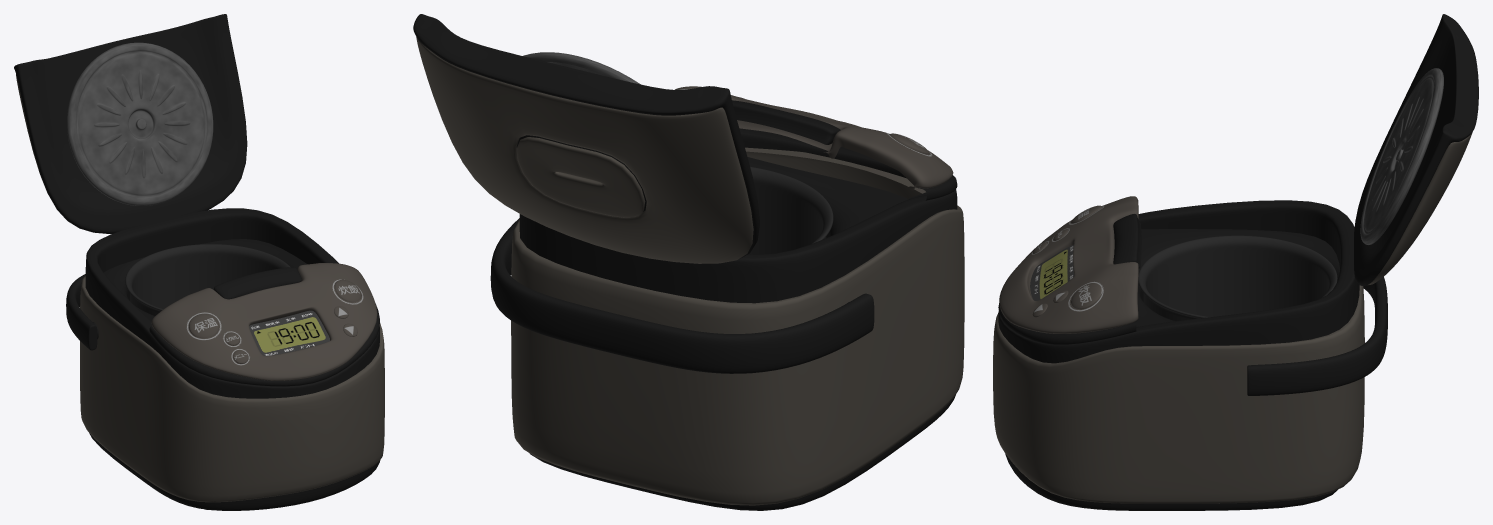
Rendered from rice_cooker.glb.
3 renders of one model, left to right at view 1: azimuth 30°, elevation 25°; view 2: azimuth 150°, elevation 25°; view 3: azimuth 270°, elevation 25°, orthographic. The views are drawn at different scales.
Parts seen in each view (by area): view 1: BodyMetal, FutaPlastic, Uchibuta, ControlPanel, BodyPlastic, Kama, BottomPlastic, DisplayPanel, ControlPanelPlastic, FutaButtonPlastic, KamaPlastic, TottePlastic; view 2: BodyMetal, FutaMetal, BodyPlastic, TottePlastic, FutaPlastic, FutaTopMetal, Kama, ControlPanel, KamaPlastic, BottomPlastic, FutaButtonPlastic, Uchibuta (+1 smaller); view 3: BodyMetal, BodyPlastic, Kama, ControlPanel, FutaPlastic, Uchibuta, TottePlastic, KamaPlastic, BottomPlastic, FutaMetal, DisplayPanel, ControlPanelPlastic (+1 smaller).
Part boxes in pixels (bbox=[...]): BodyMetal: bbox=[80, 276, 384, 502]; FutaPlastic: bbox=[14, 14, 247, 233]; Uchibuta: bbox=[67, 42, 213, 205]; ControlPanel: bbox=[151, 263, 377, 380]; BodyPlastic: bbox=[85, 208, 379, 398]; Kama: bbox=[125, 244, 290, 315]; BottomPlastic: bbox=[89, 433, 380, 510]; DisplayPanel: bbox=[249, 310, 329, 355]; ControlPanelPlastic: bbox=[149, 303, 379, 386]; FutaButtonPlastic: bbox=[214, 267, 301, 299]; KamaPlastic: bbox=[104, 239, 307, 321]; TottePlastic: bbox=[66, 274, 98, 350]; BodyMetal: bbox=[511, 147, 964, 505]; FutaMetal: bbox=[416, 37, 753, 263]; BodyPlastic: bbox=[519, 132, 957, 303]; TottePlastic: bbox=[490, 218, 874, 373]; FutaPlastic: bbox=[413, 14, 759, 259]; FutaTopMetal: bbox=[516, 137, 645, 217]; Kama: bbox=[749, 167, 833, 254]; ControlPanel: bbox=[675, 86, 953, 190]; KamaPlastic: bbox=[747, 157, 907, 237]; BottomPlastic: bbox=[529, 395, 955, 510]; FutaButtonPlastic: bbox=[732, 100, 840, 144]; Uchibuta: bbox=[523, 52, 640, 84]; BodyMetal: bbox=[993, 285, 1364, 503]; BodyPlastic: bbox=[998, 200, 1359, 363]; Kama: bbox=[1138, 235, 1337, 320]; ControlPanel: bbox=[999, 196, 1138, 333]; FutaPlastic: bbox=[1354, 14, 1478, 285]; Uchibuta: bbox=[1360, 68, 1443, 244]; TottePlastic: bbox=[1247, 277, 1387, 395]; KamaPlastic: bbox=[1136, 229, 1339, 326]; BottomPlastic: bbox=[1005, 454, 1337, 510]; FutaMetal: bbox=[1368, 132, 1472, 284]; DisplayPanel: bbox=[1030, 244, 1074, 300]; ControlPanelPlastic: bbox=[998, 303, 1137, 344].
Bounding box in the file's own units: 0.4008 × 0.5409 × 0.615.
6 materials, 4 textured.
